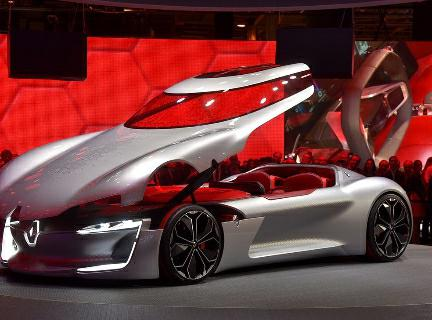雷诺-TREZOR: (4, 147, 428, 291)
